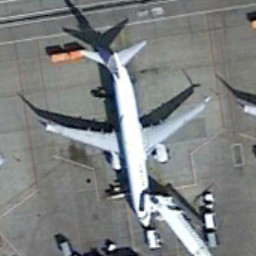Airplane: (25, 32, 220, 237)
